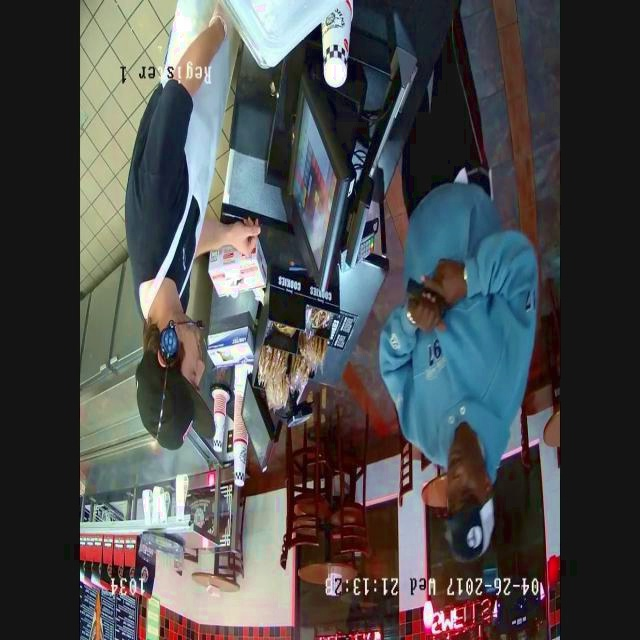gun: (397, 268, 466, 335)
